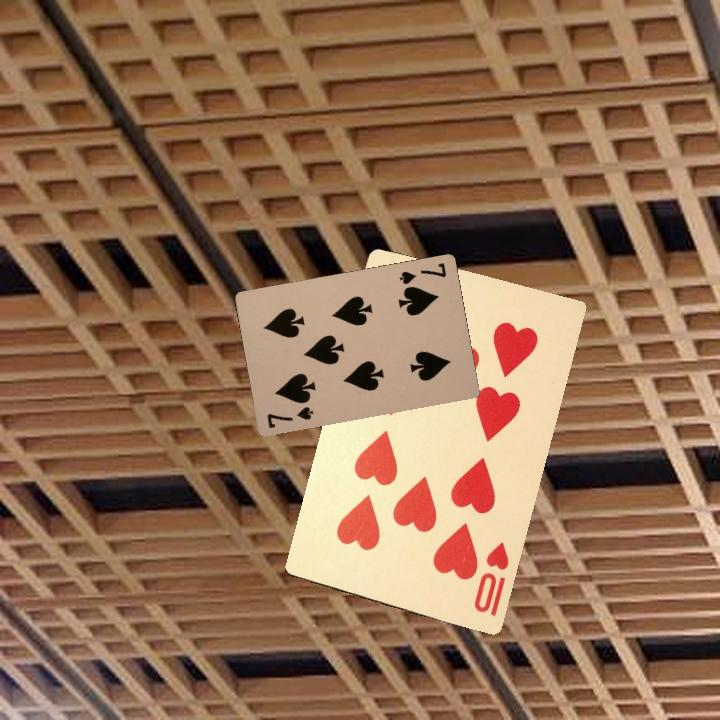10h: (469, 539, 511, 619)
7s: (263, 402, 316, 431), (395, 259, 449, 287)
